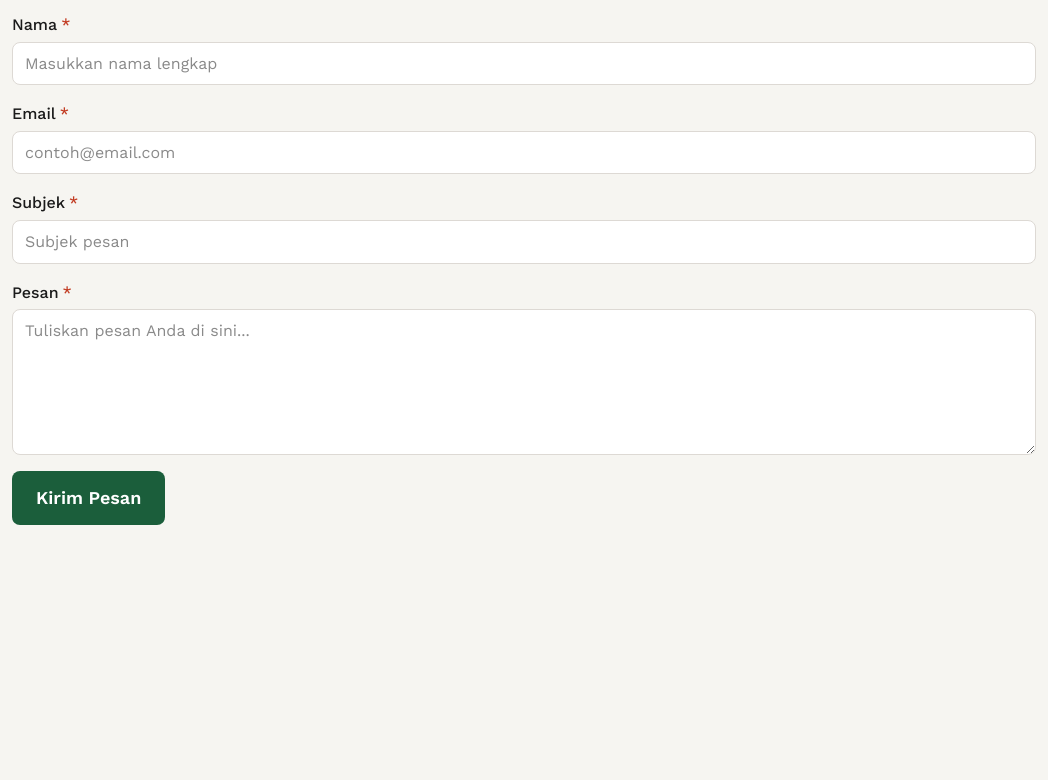
Test case: ContactForm Component › shows validation errors when submitting empty form
Click the button "Kirim Pesan" at x=89, y=498, box [12,471,165,525]
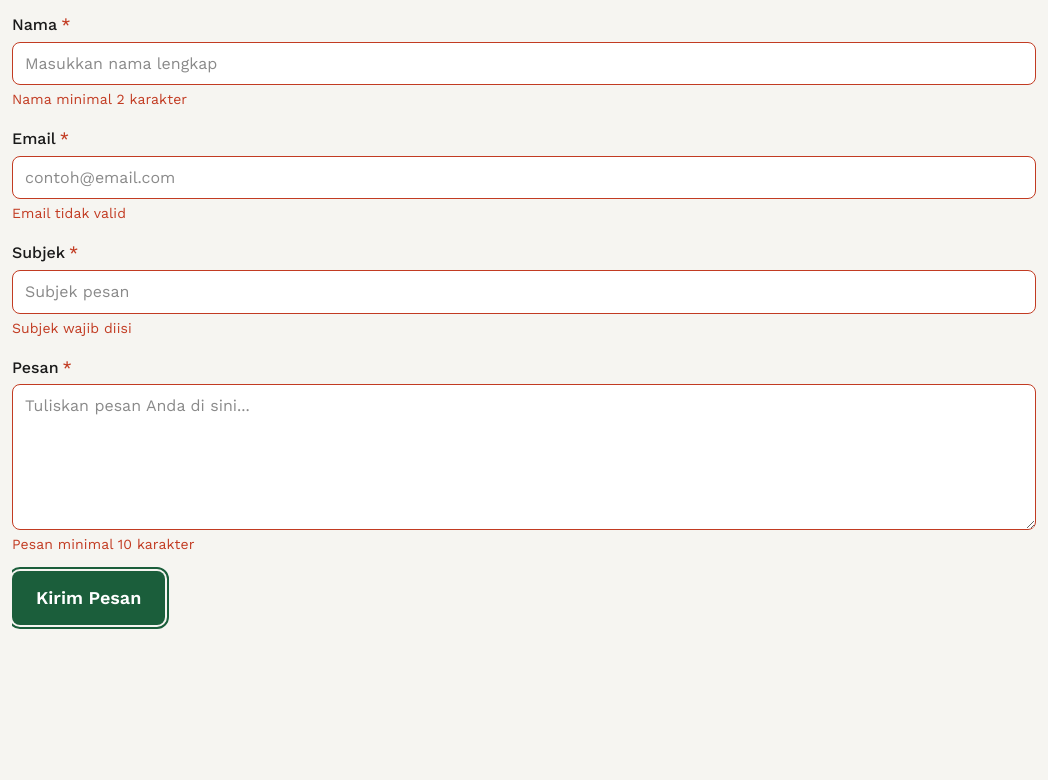
Expected: the text "Nama minimal 2 karakter" is shown, [12,91,187,107]
Expected: the text "Email tidak valid" is shown, [12,205,126,221]
Expected: the text "Subjek wajib diisi" is shown, [12,320,132,336]
